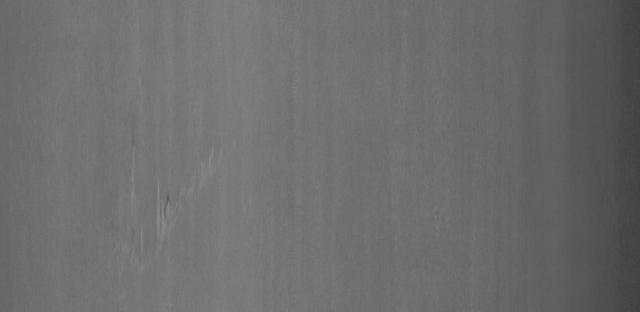silk_spot: (103, 141, 239, 280)
